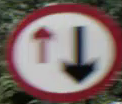Two way: (19, 11, 105, 93)
